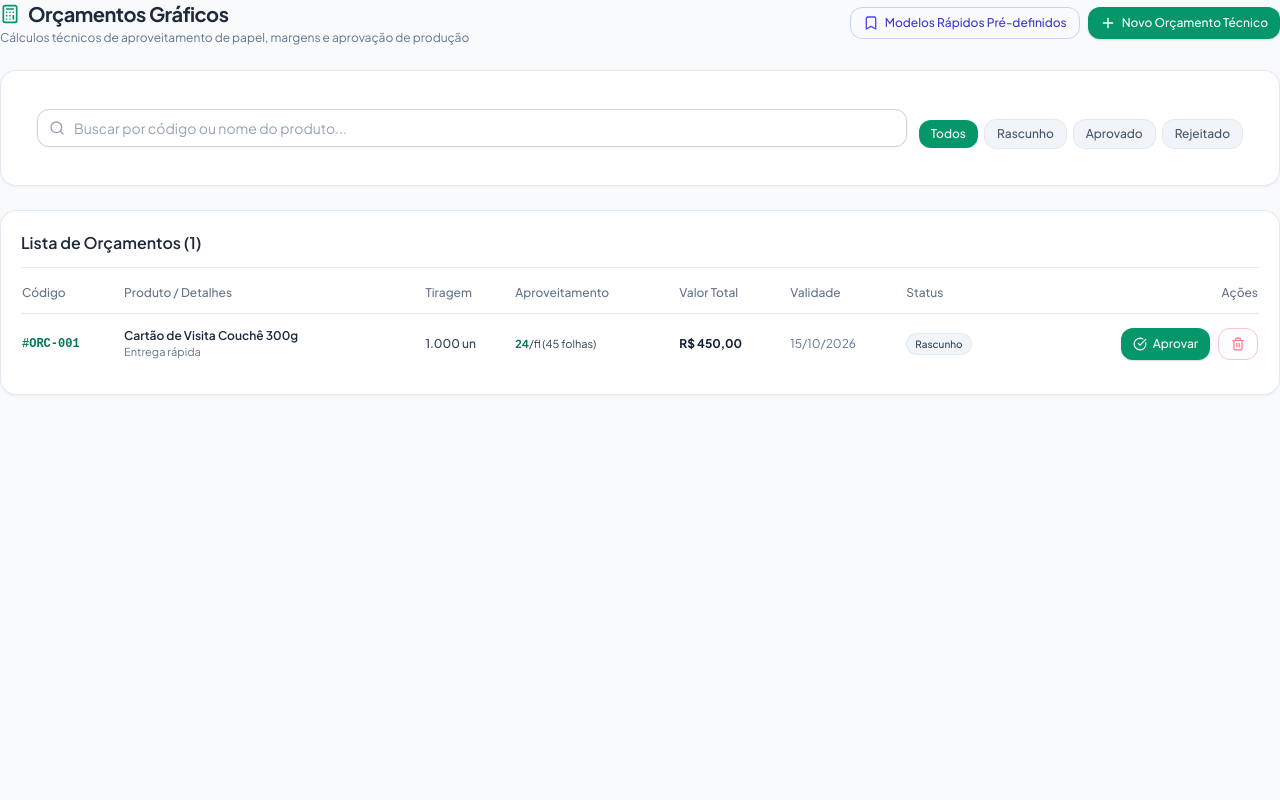
QuotesListPage › shows in-app error banner when deletion fails
The width and height of the screenshot is (1280, 800).
Expected: the text "Cartão de Visita Couchê 300g" is shown, [124,328,298,343]
Click delete button on the row
Step 1. Click the button titled "Excluir Orçamento" → [1238, 344], box [1218,328,1258,360]
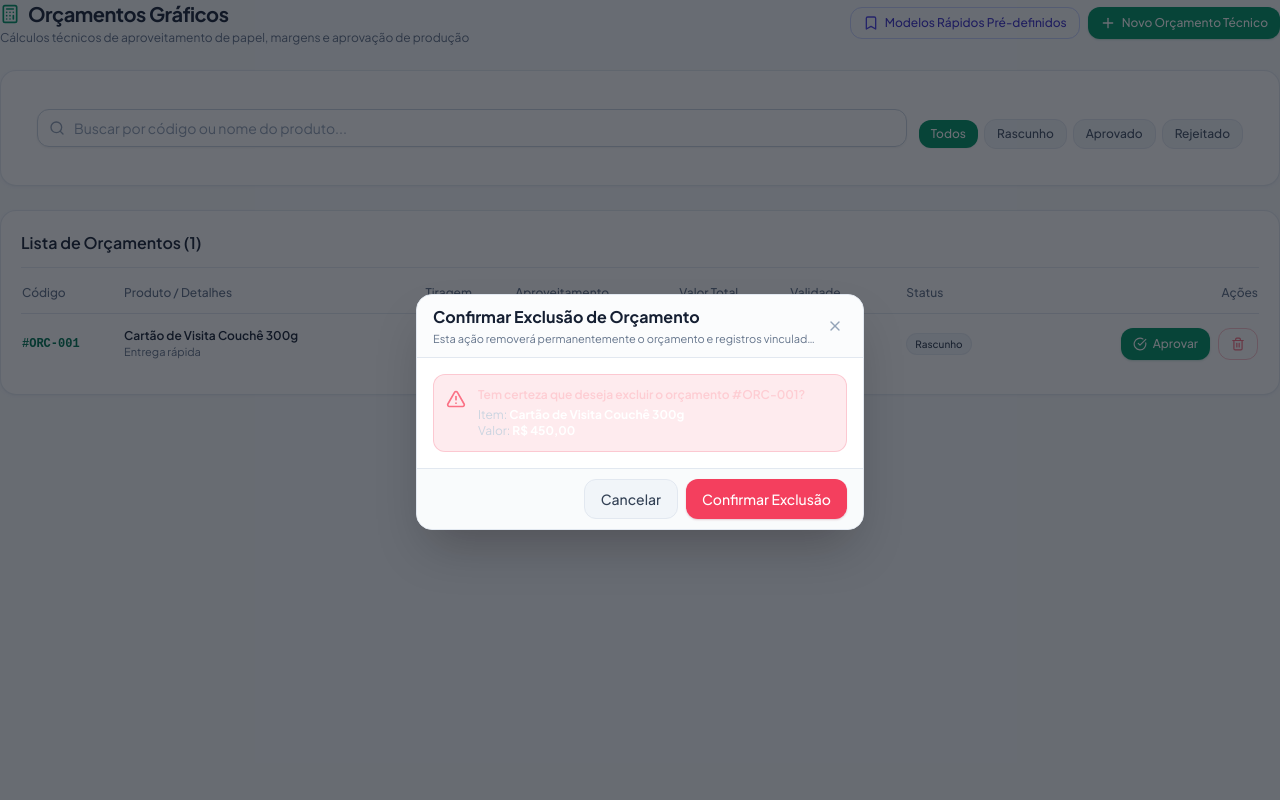
Confirm in modal
Step 2. Click the button "Confirmar Exclusão" → [766, 499], box [686,479,847,519]
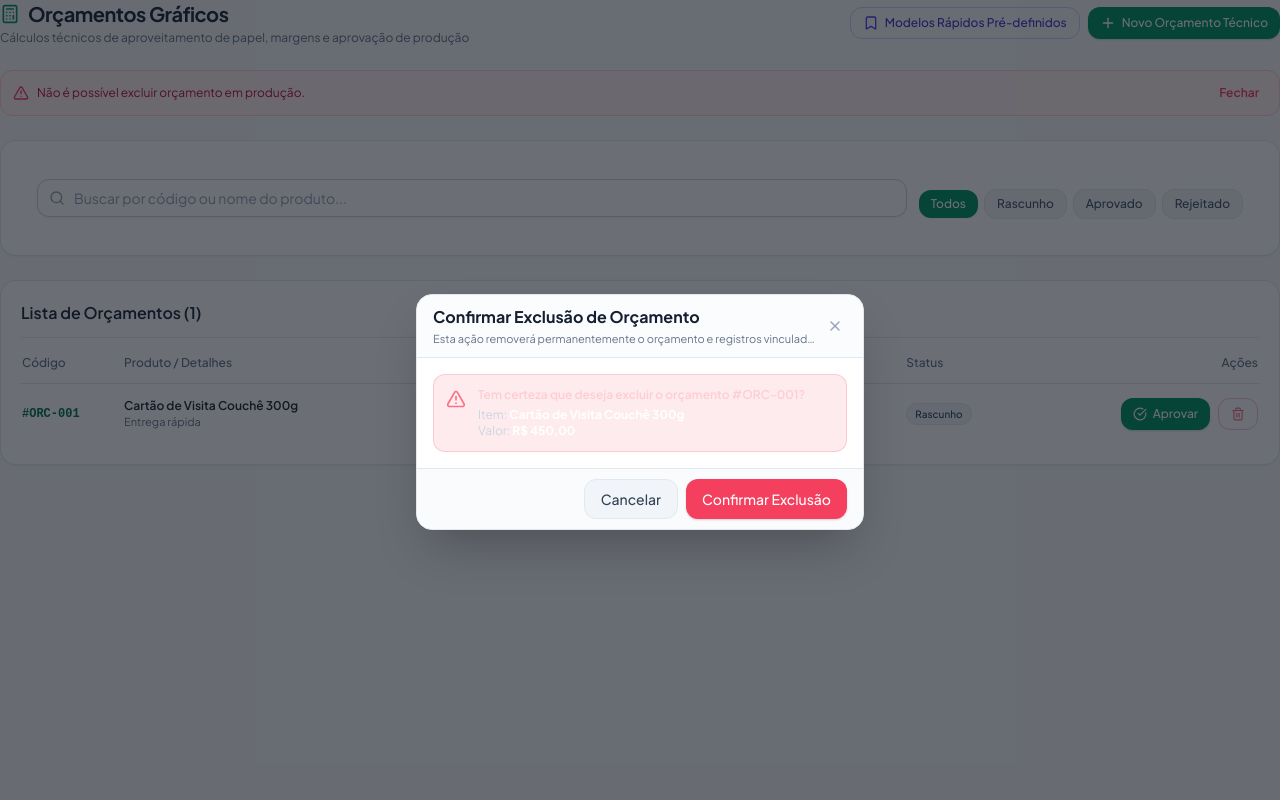
Expected: the text "Não é possível excluir orçamento em produção." is shown, [37,85,305,101]
